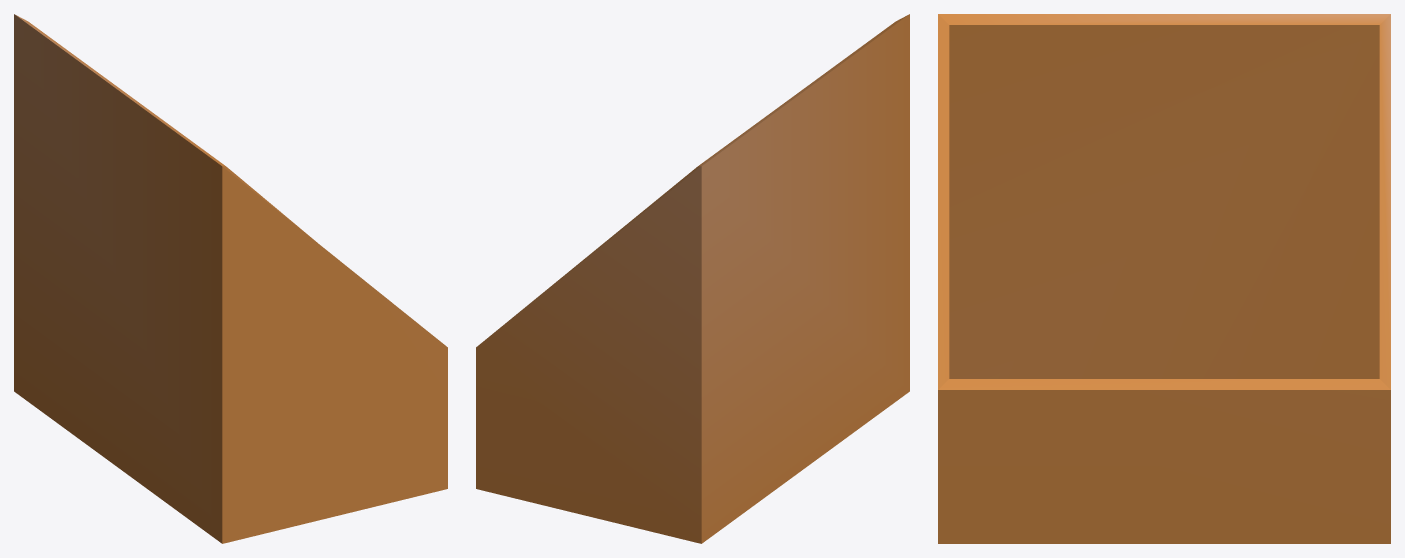
File: BigBin.fbx
3 renders of one model, left to right at view 1: azimuth 30°, elevation 25°; view 2: azimuth 150°, elevation 25°; view 3: azimuth 270°, elevation 25°, orthographic. The views are drawn at different scales.
Parts seen in each view (by area): view 1: BigBin; view 2: BigBin; view 3: BigBin.
Boxes of the visible parts, left/top/right/bottom form: BigBin: left=14, top=14, right=447, bottom=543; BigBin: left=476, top=14, right=909, bottom=543; BigBin: left=938, top=14, right=1390, bottom=543.
Size of the model in its own units: 100 by 160 by 160.
